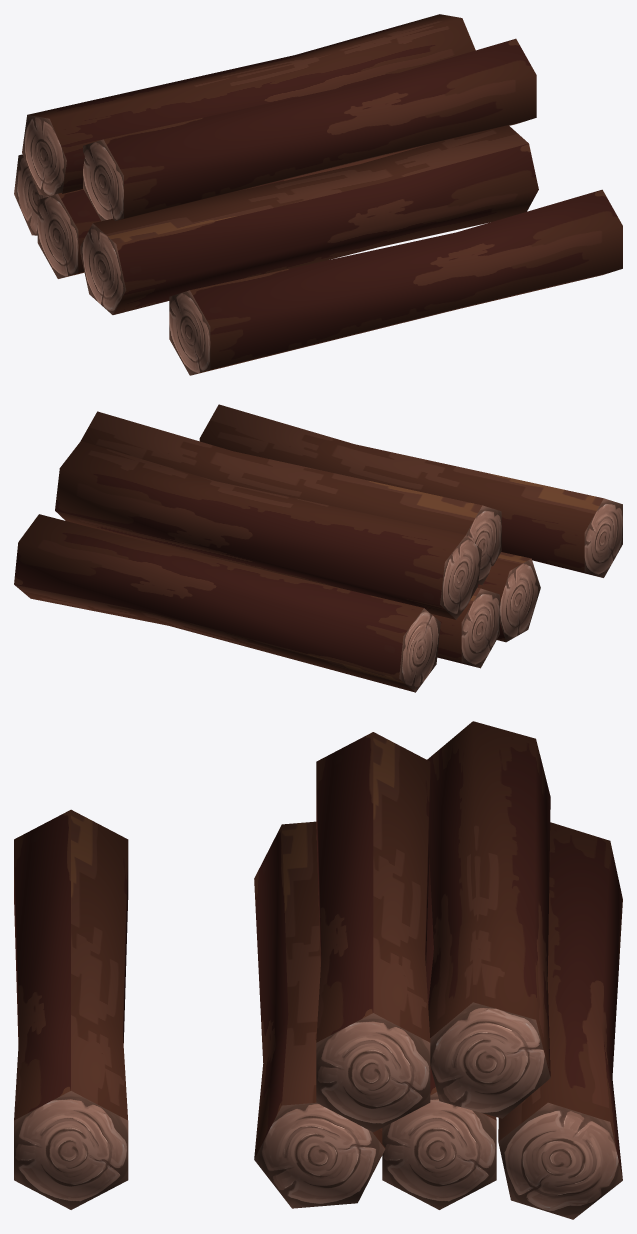
Rendered from pile-de-bois-3 (source).glb.
3 views of the same model, one above another, from view 1: azimuth 30°, elevation 25°; view 2: azimuth 150°, elevation 25°; view 3: azimuth 270°, elevation 25° (orthographic). The views are drawn at different scales.
Parts seen in each view (by area): view 1: SM_PROP_treetrunk_03, SM_PROP_treetrunk_04; view 2: SM_PROP_treetrunk_03, SM_PROP_treetrunk_04; view 3: SM_PROP_treetrunk_03, SM_PROP_treetrunk_04.
Part boxes in pixels (x1,y1,x2,y2): SM_PROP_treetrunk_03: (14, 14, 538, 314); SM_PROP_treetrunk_04: (169, 189, 622, 375); SM_PROP_treetrunk_03: (14, 411, 540, 692); SM_PROP_treetrunk_04: (199, 404, 622, 577); SM_PROP_treetrunk_03: (254, 721, 622, 1219); SM_PROP_treetrunk_04: (14, 809, 128, 1209).
Size of the model in its own units: 4.84 by 1.62 by 4.2.
2 materials, 2 textured.
